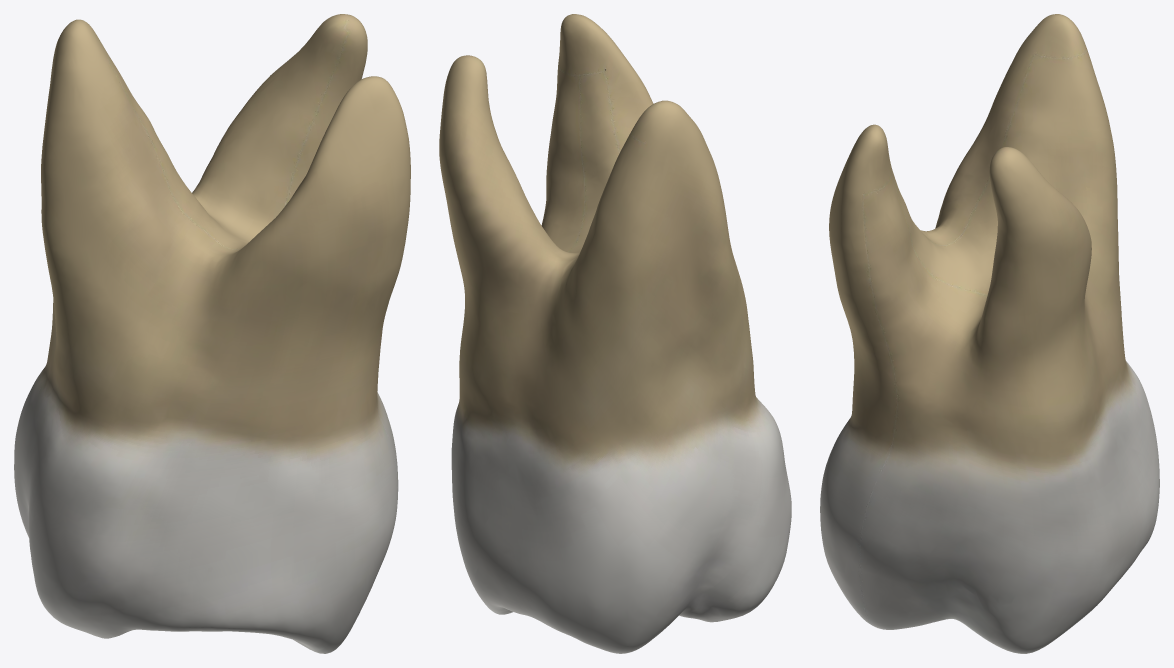
Rendered from maxillary_first_molar.glb.
3 renders of one model, left to right at view 1: azimuth 30°, elevation 25°; view 2: azimuth 150°, elevation 25°; view 3: azimuth 270°, elevation 25°, orthographic. The views are drawn at different scales.
Parts seen in each view (by area): view 1: Object_2; view 2: Object_2; view 3: Object_2.
Boxes of the visible parts, box(x1,y1,x2,y2) form: Object_2: box(14, 14, 410, 653); Object_2: box(439, 14, 791, 653); Object_2: box(820, 14, 1159, 653).
Size of the model in its own units: 0.4533 by 0.7784 by 0.4332.
1 material, 1 textured.
